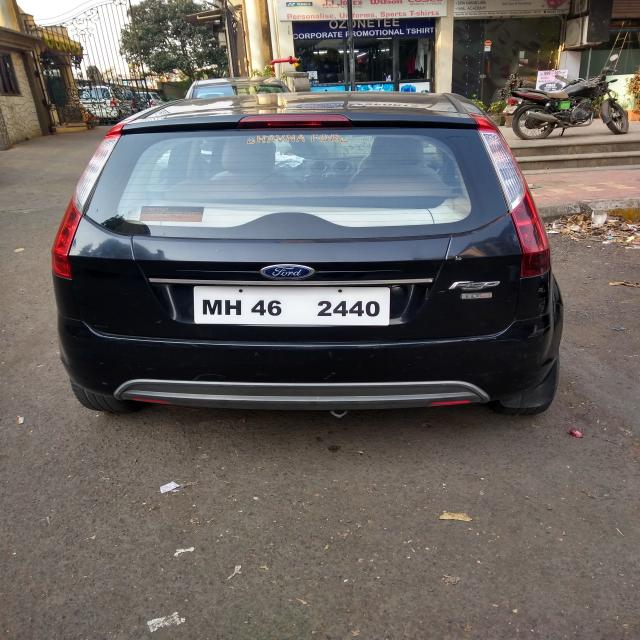Number-Plate: (196, 288, 392, 322)
